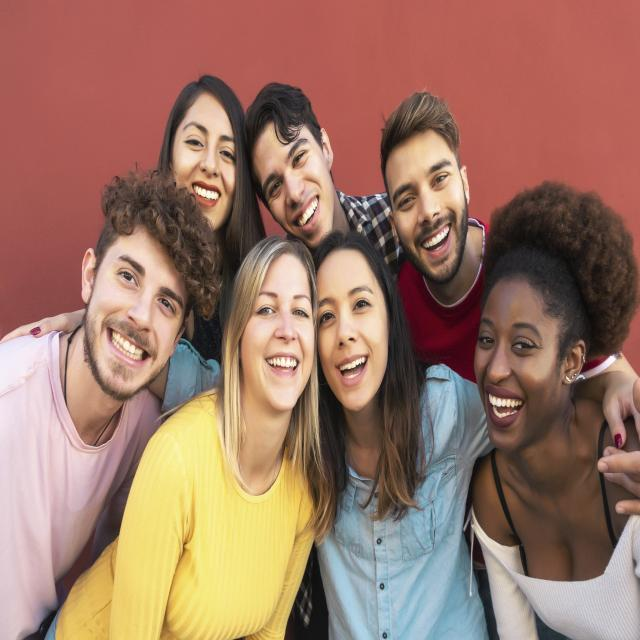adult: (44, 232, 319, 640), (0, 173, 217, 640), (316, 228, 528, 640), (464, 184, 640, 640), (381, 80, 497, 388), (245, 82, 404, 281), (159, 71, 257, 323)
